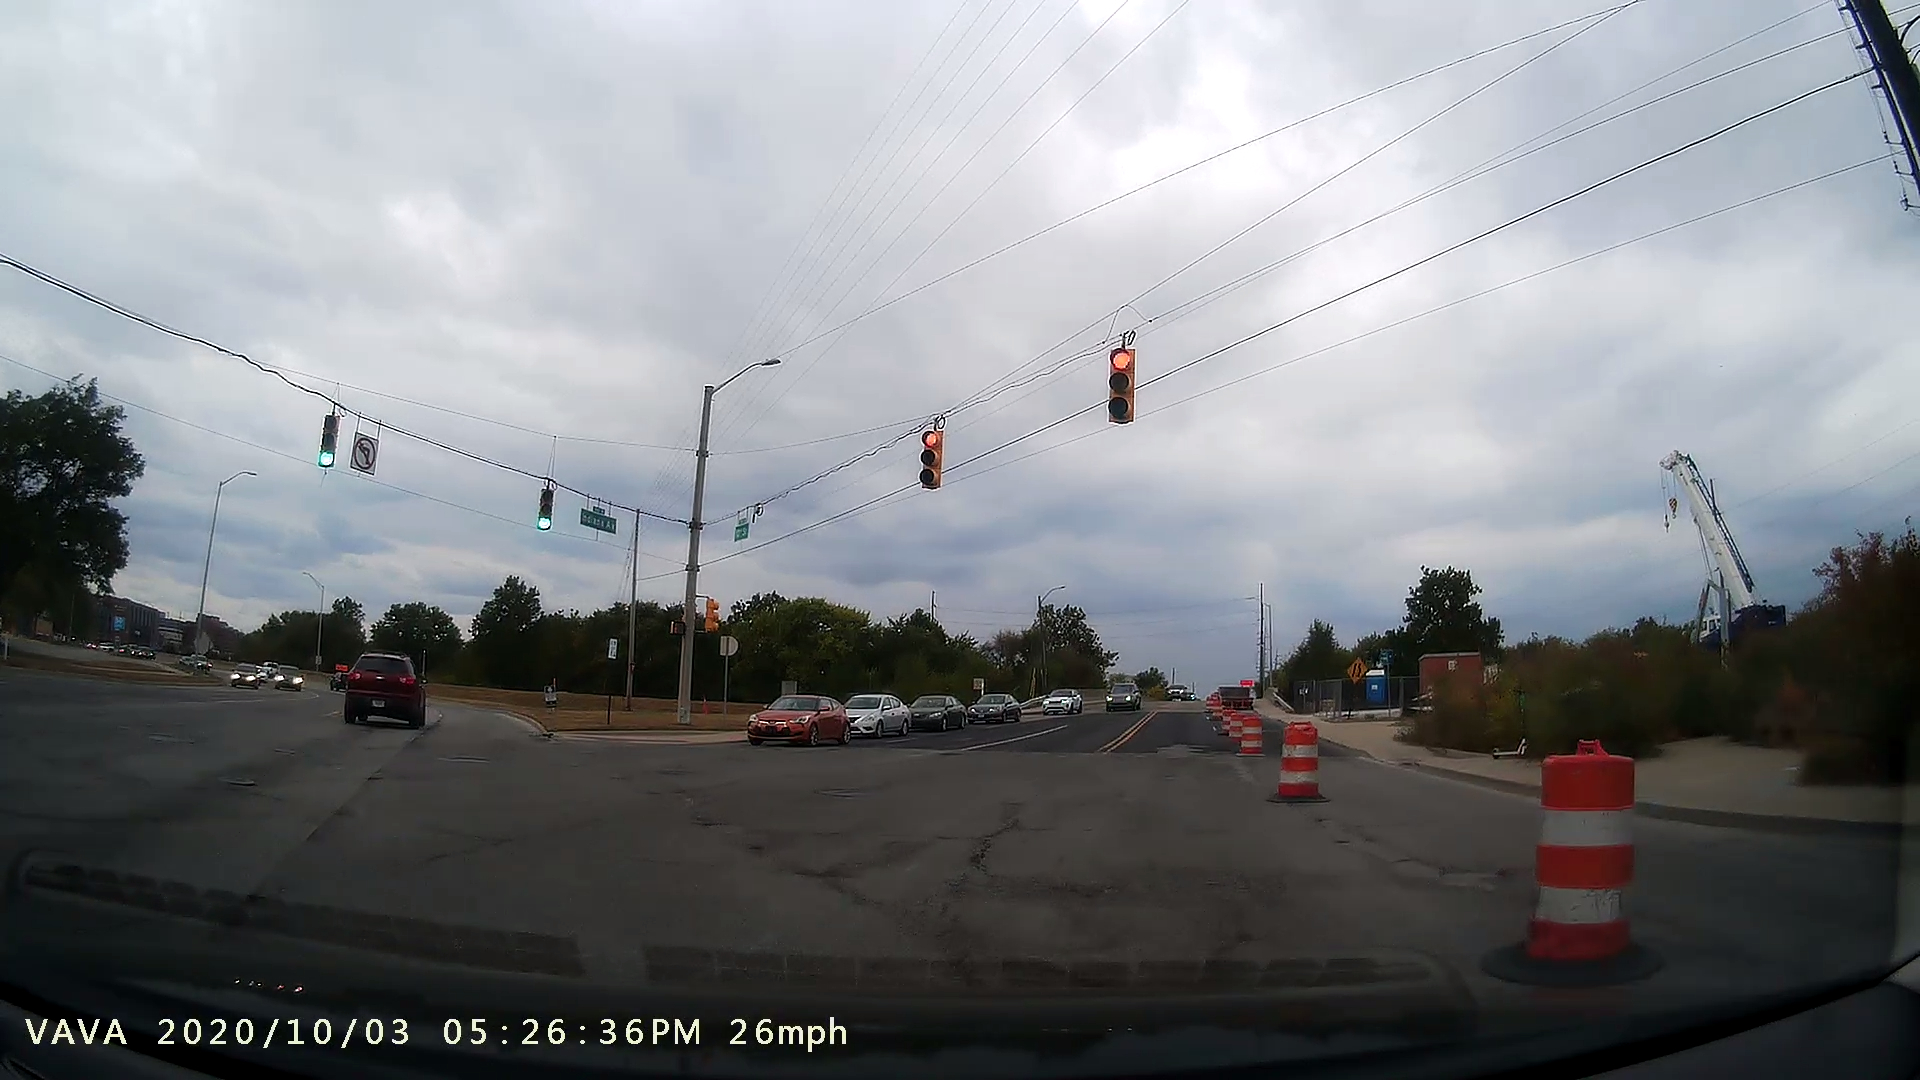const_barrel: (1462, 742, 1680, 993), (1273, 711, 1335, 816), (1234, 715, 1270, 760)
